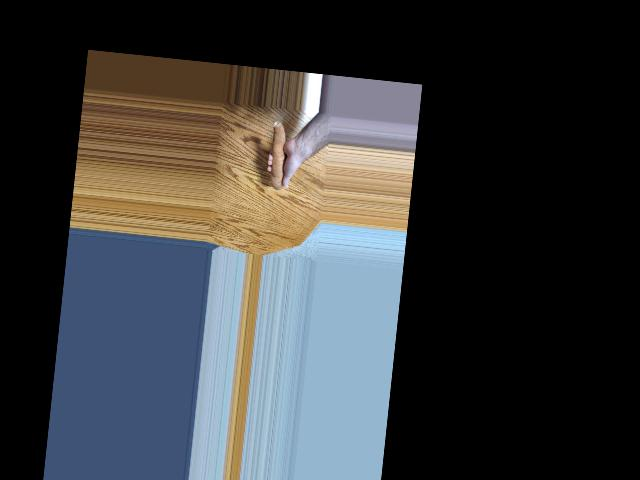sweet_potato: (268, 120, 295, 188)
